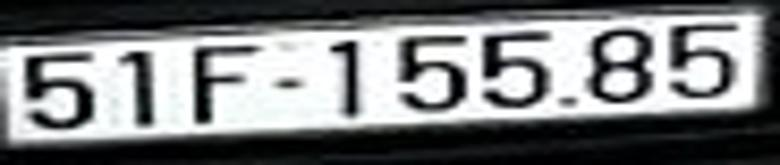-: (272, 75, 307, 92)
.: (558, 95, 577, 112)
1: (115, 47, 158, 130), (331, 38, 363, 119)
5: (22, 49, 97, 132), (481, 29, 553, 114), (397, 32, 468, 113), (669, 20, 739, 101)
8: (586, 27, 657, 105)
F: (190, 39, 264, 122)
